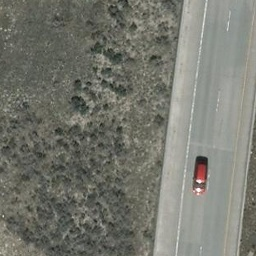car: (191, 163, 209, 194)
